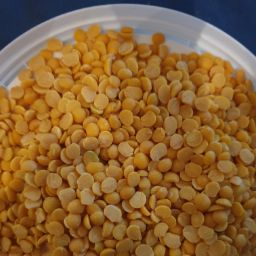Pigeon Pea(toor daal): (4, 28, 256, 256), (35, 70, 206, 256)
